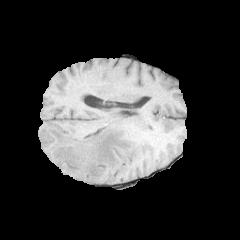glioma: (48, 126, 138, 179)
